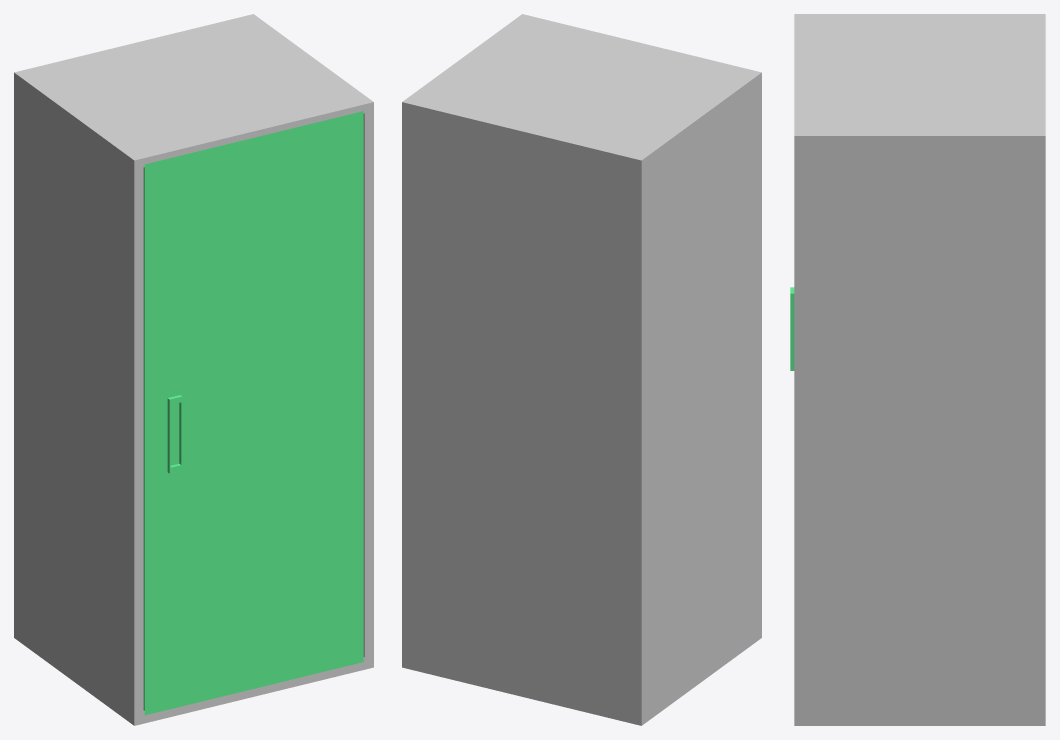
Rendered from Loker2.fbx.
3 views of the same model, side by side, from view 1: azimuth 30°, elevation 25°; view 2: azimuth 150°, elevation 25°; view 3: azimuth 270°, elevation 25° (orthographic). The views are drawn at different scales.
Parts seen in each view (by area): view 1: Cube.004; view 2: Cube.004; view 3: Cube.004.
Part boxes in pixels (box(x1,y1,x2,y2)): Cube.004: box(14, 14, 373, 725); Cube.004: box(402, 14, 761, 725); Cube.004: box(790, 14, 1045, 725).
Size of the model in its own units: 88.68 by 200 by 78.45.
